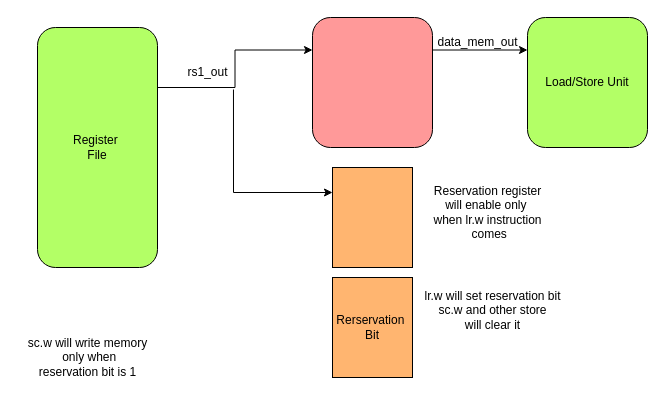
Some shapes in this 665 by 405 pixel diagram are drawn without their labels. Each missing label, with the box of its shape:
DMEM: (312, 16, 432, 148)
Reservation Register: (332, 166, 412, 268)
